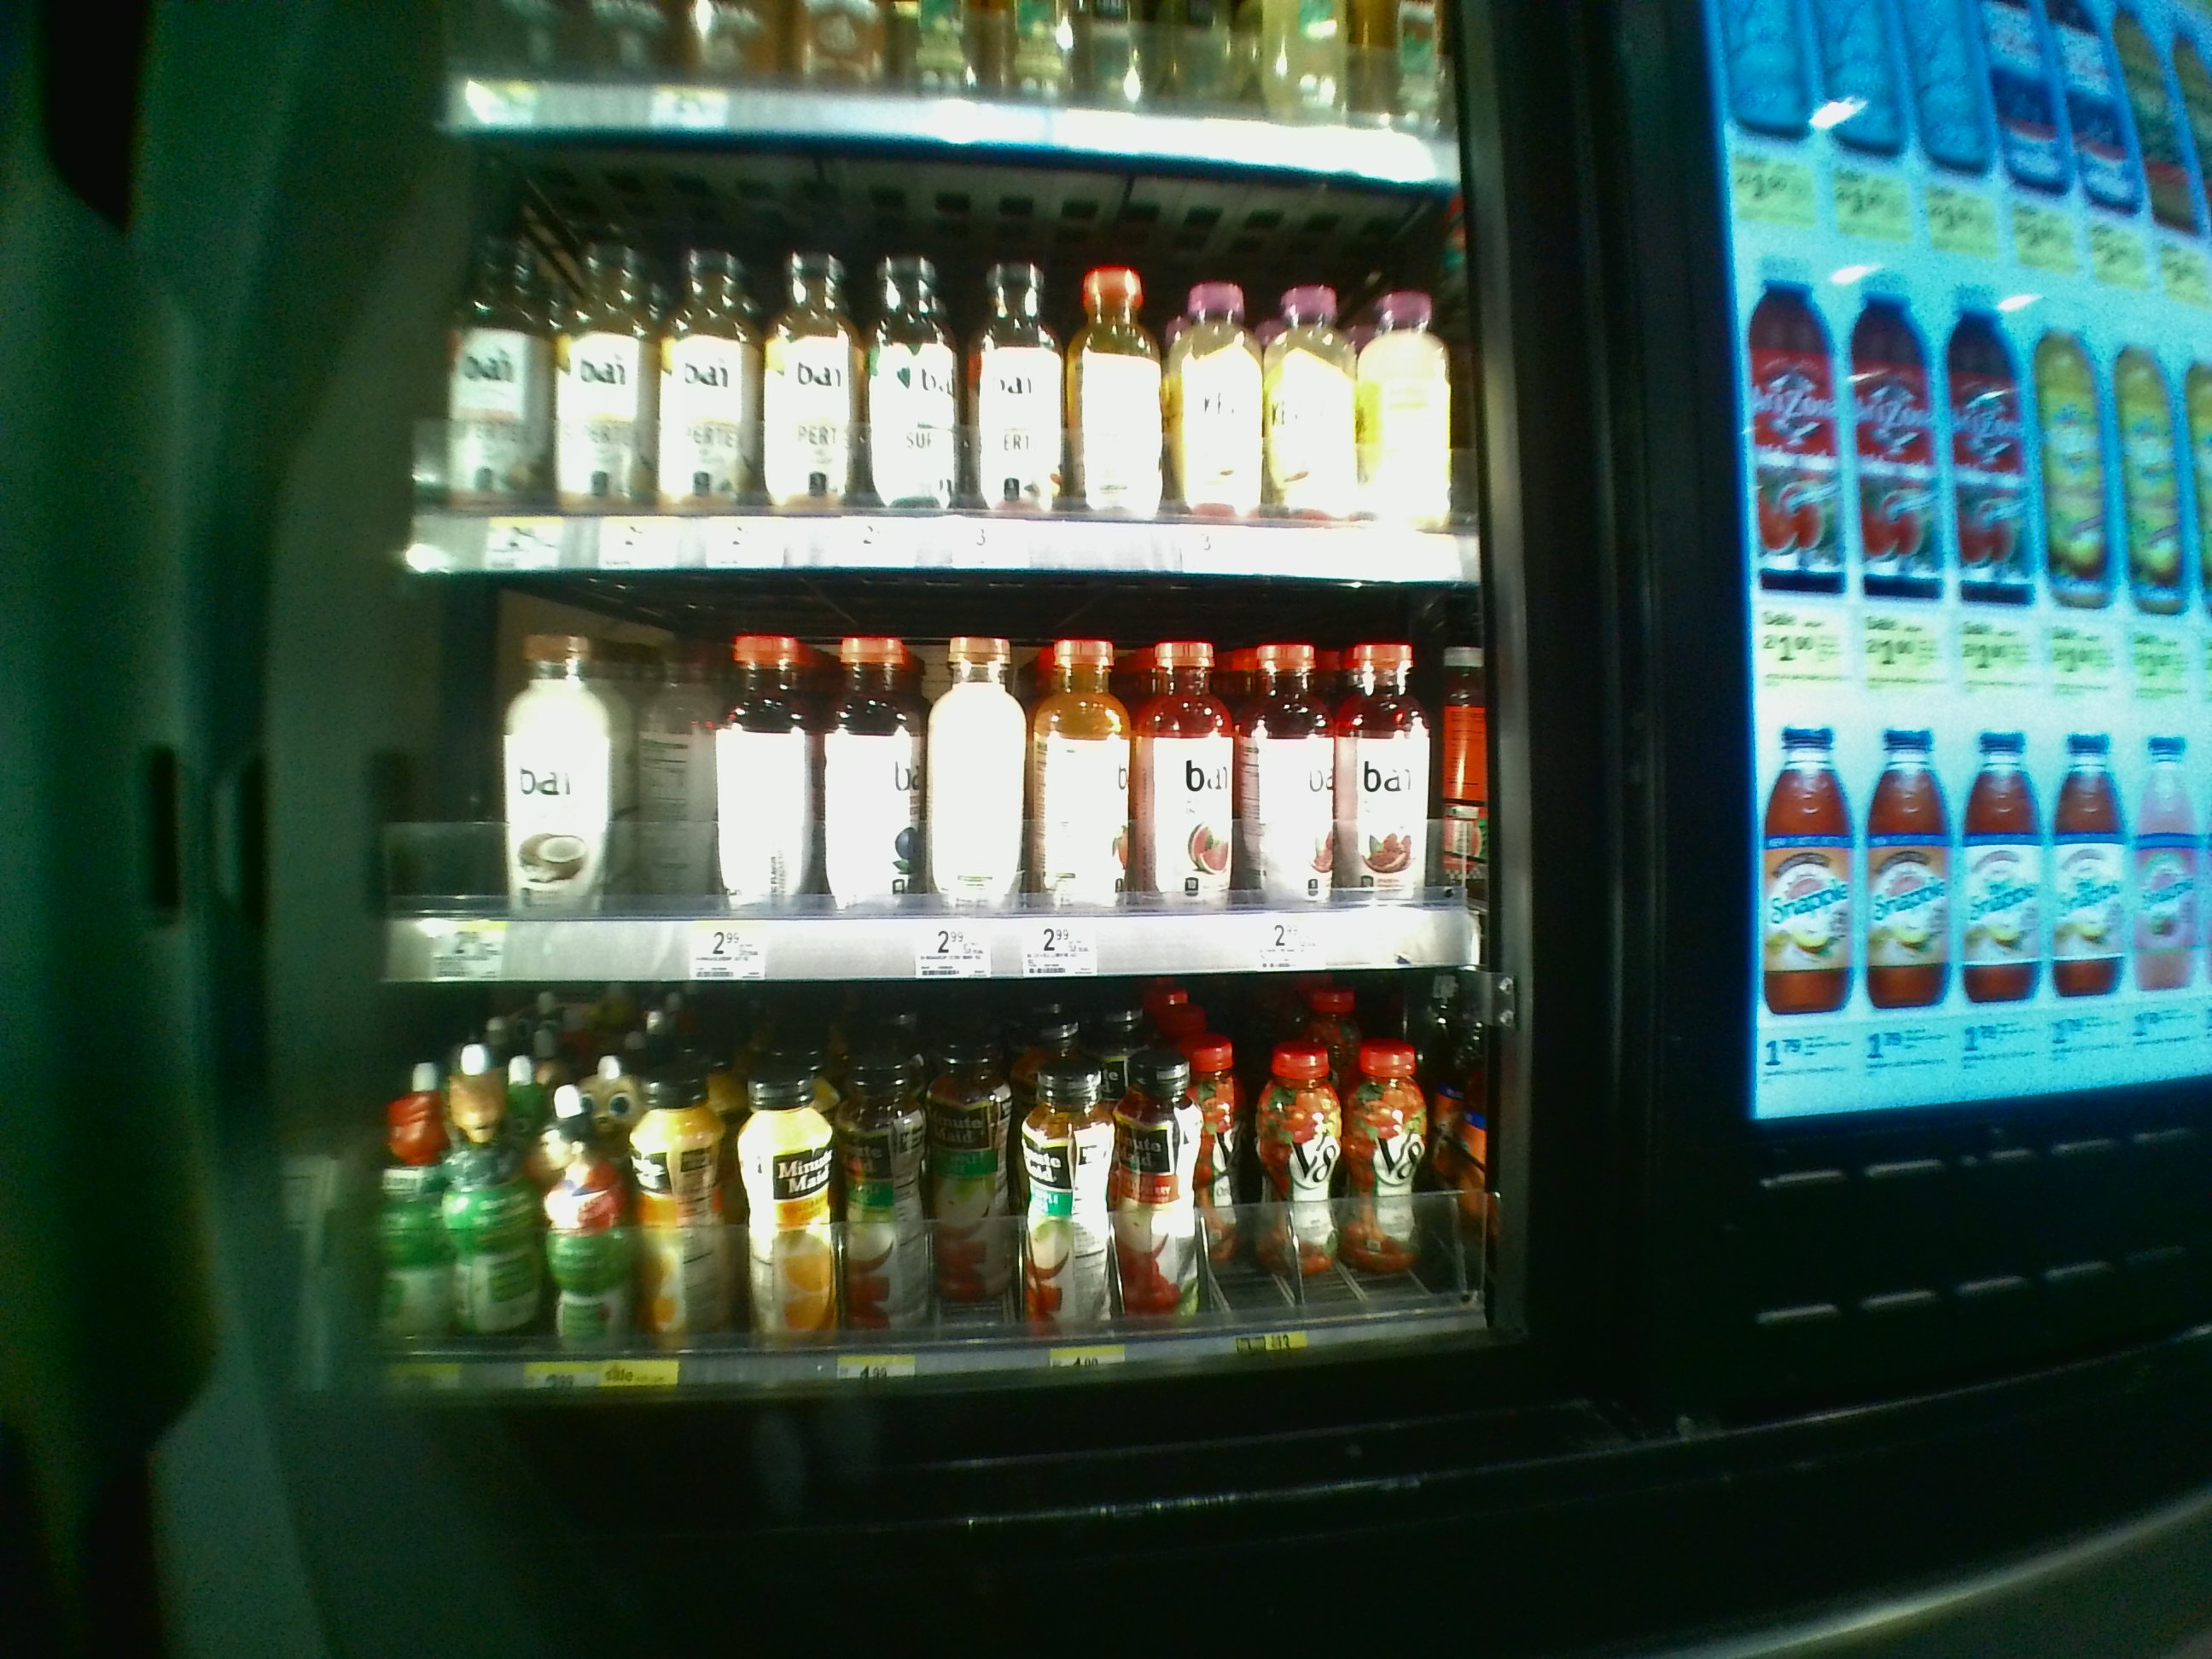shelf: (376, 990, 1514, 1410), (409, 136, 1479, 579), (394, 591, 1501, 979)
